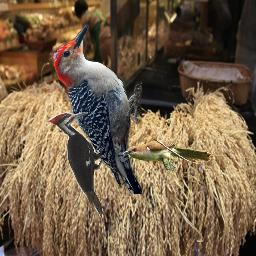Cuckoo: (123, 140, 215, 172)
Woodpecker: (49, 25, 142, 194), (46, 112, 102, 221)
